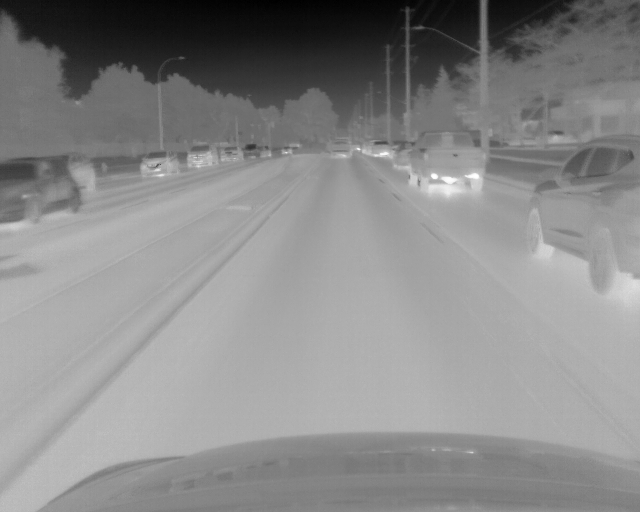car: (525, 138, 619, 295), (1, 156, 81, 227), (407, 131, 484, 192), (67, 155, 98, 193), (141, 150, 178, 177), (186, 145, 216, 168), (392, 142, 411, 167), (331, 137, 352, 159), (220, 144, 241, 162), (364, 140, 387, 156), (243, 144, 258, 159), (257, 145, 271, 158), (282, 147, 292, 156)
